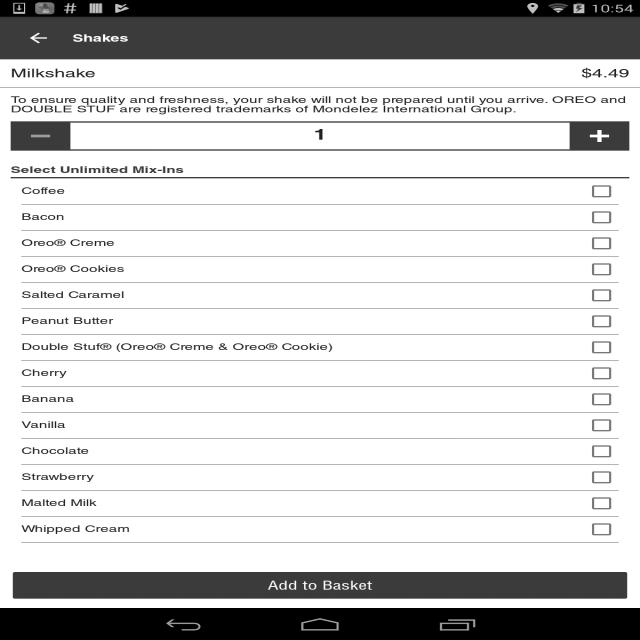Button: (9, 568, 632, 603)
CheckedTextView: (584, 178, 618, 204), (584, 204, 618, 230), (584, 230, 618, 256), (584, 256, 618, 282), (584, 282, 618, 308), (584, 308, 618, 334), (584, 334, 618, 360), (584, 412, 618, 438), (584, 438, 618, 464), (584, 464, 618, 490), (584, 516, 618, 542), (584, 361, 618, 386), (584, 387, 618, 412), (584, 491, 618, 516)
EditText: (68, 121, 572, 151)
ImageButton: (9, 19, 68, 57), (11, 121, 68, 151), (572, 121, 629, 151)
TextView: (11, 151, 629, 177), (0, 59, 571, 87), (11, 94, 629, 115), (22, 341, 334, 352), (570, 59, 640, 86), (21, 523, 130, 534), (21, 263, 125, 274), (21, 289, 125, 300), (21, 237, 115, 248), (21, 315, 113, 326), (21, 497, 97, 508), (22, 471, 94, 482), (21, 445, 90, 456), (73, 32, 128, 44), (21, 393, 74, 404), (21, 367, 67, 378), (21, 419, 66, 430), (21, 185, 65, 196), (22, 211, 64, 222)
